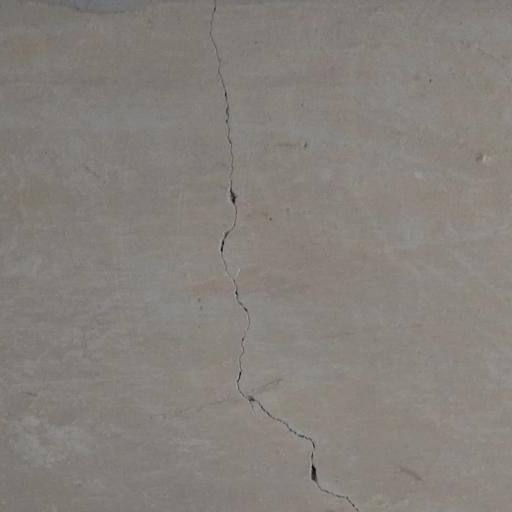minor_crack: (193, 0, 370, 512)
